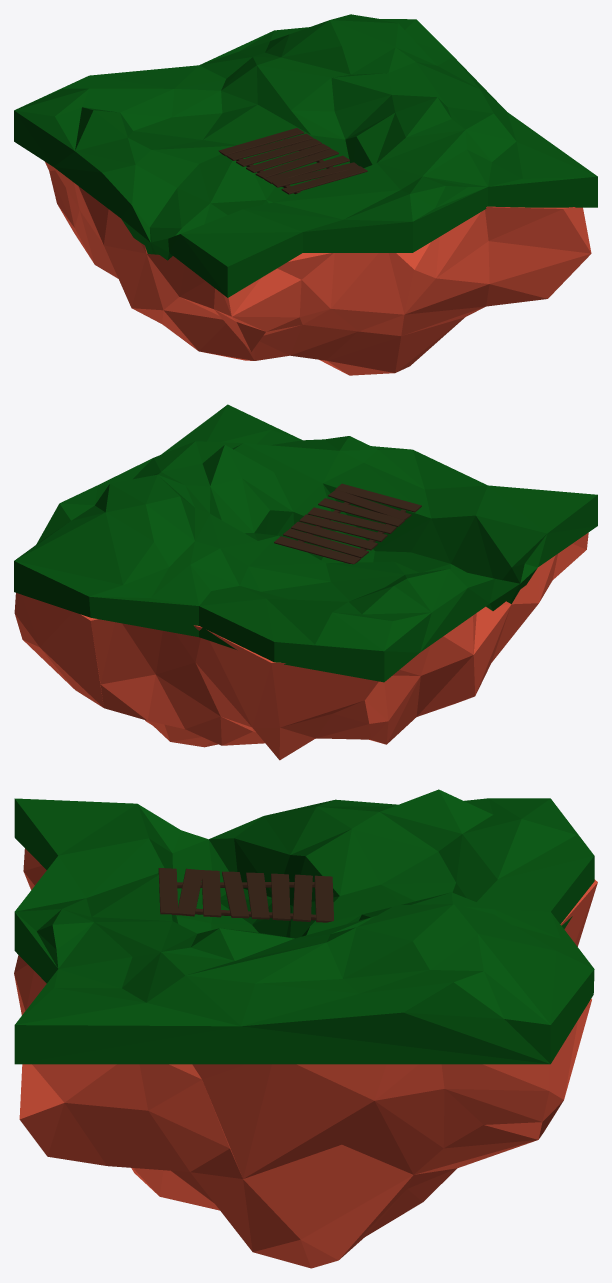
The model's file is Area_Base2.fbx.
The picture shows the model from 3 angles, top to bottom: view 1: azimuth 30°, elevation 25°; view 2: azimuth 150°, elevation 25°; view 3: azimuth 270°, elevation 25°; orthographic projection. The views are drawn at different scales.
Parts seen in each view (by area): view 1: Plain.001, Plain.002, Cube.001; view 2: Plain.001, Plain.002, Cube.001; view 3: Plain.001, Plain.002, Cube.001.
Part boxes in pixels (x1,y1,x2,y2): Plain.001: (14,14,597,297); Plain.002: (45,162,591,375); Cube.001: (218,128,367,194); Plain.001: (14,404,597,682); Plain.002: (14,532,588,760); Cube.001: (274,483,421,564); Plain.001: (14,789,594,1064); Plain.002: (14,848,597,1268); Cube.001: (158,868,333,922).
Bounding box in the file's own units: 201 × 144 × 218.
